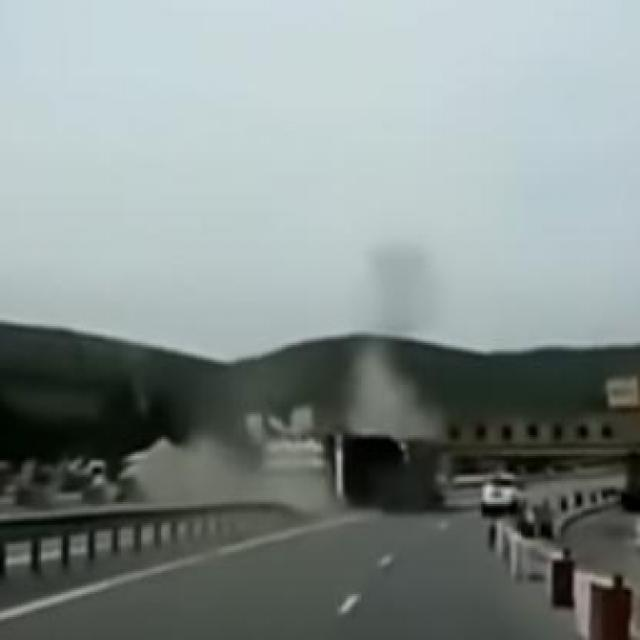accident: (300, 398, 463, 534)
